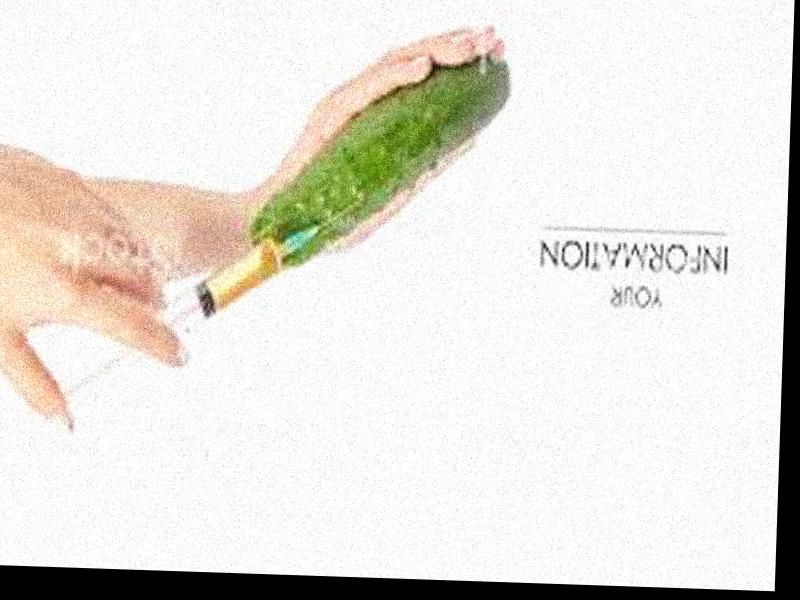Cucumber: (251, 51, 509, 281)
